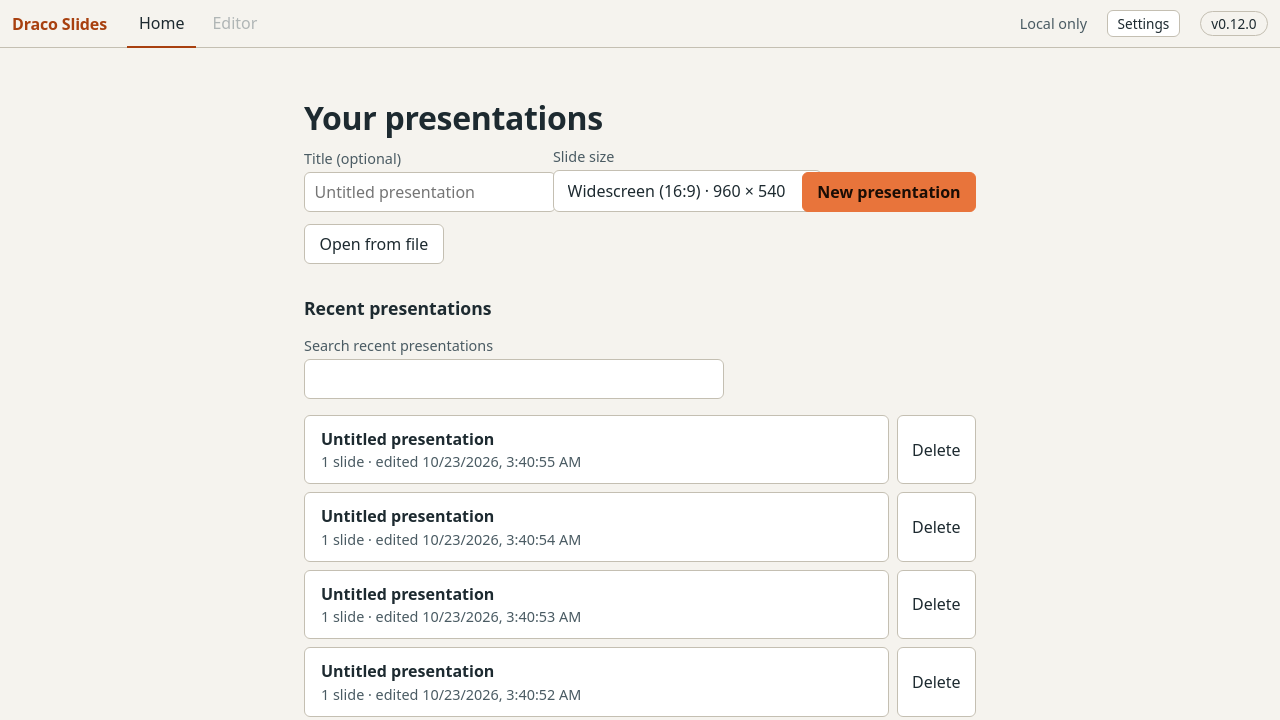
Test case: text boxes on the canvas › clicking empty canvas or pressing Escape clears the selection
Click the button "New presentation": (889, 192) [802,172,976,212]
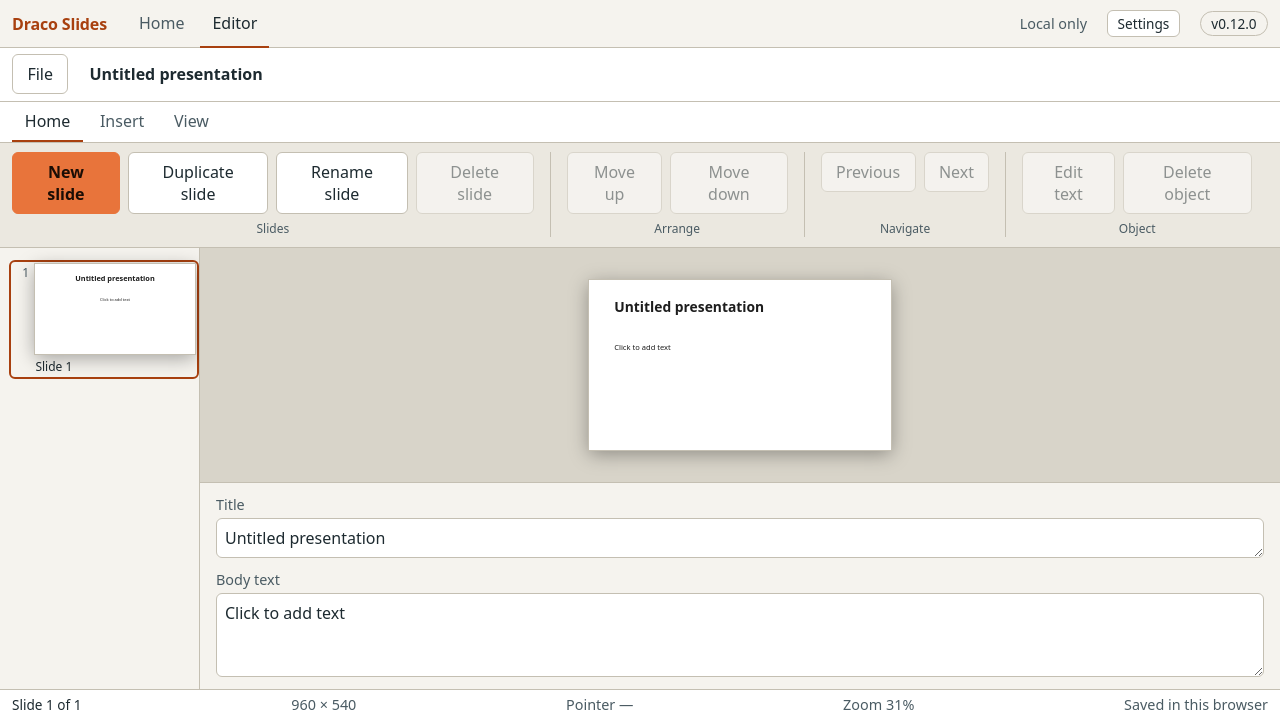
Click the tab "Insert": (122, 122) [87,102,157,142]
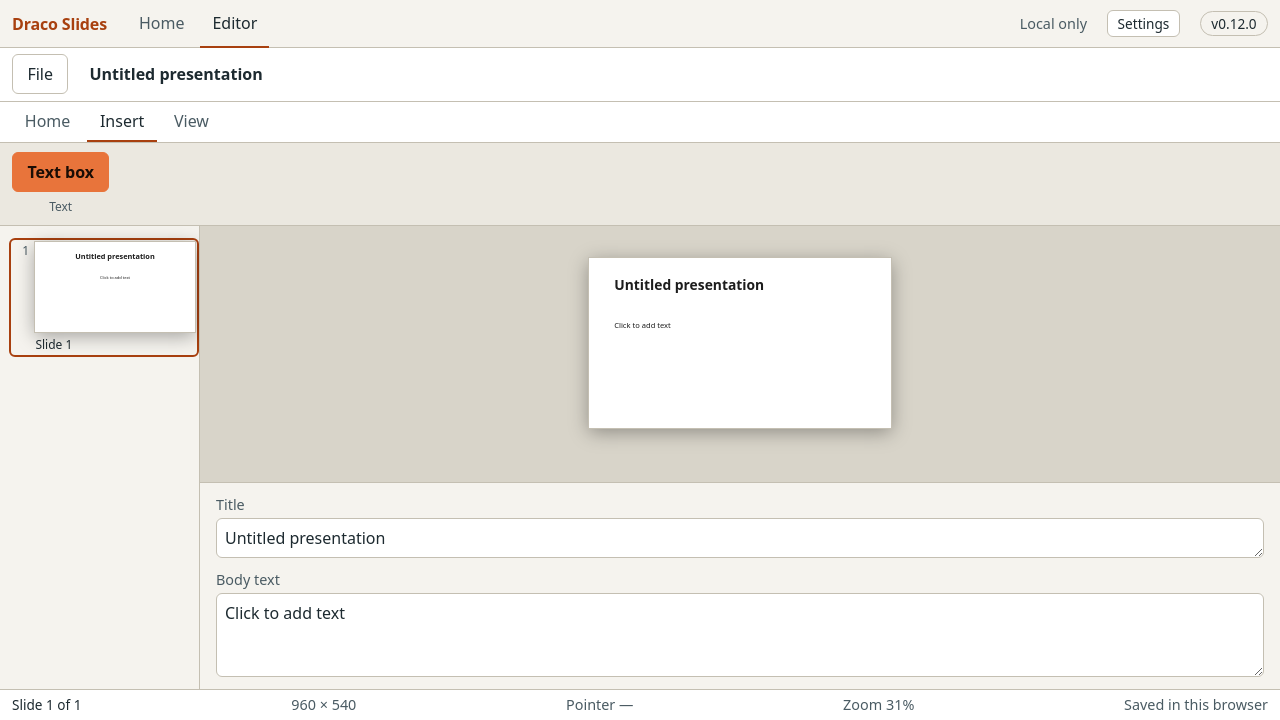
Click the button "Text box": (61, 172) [12,152,109,192]
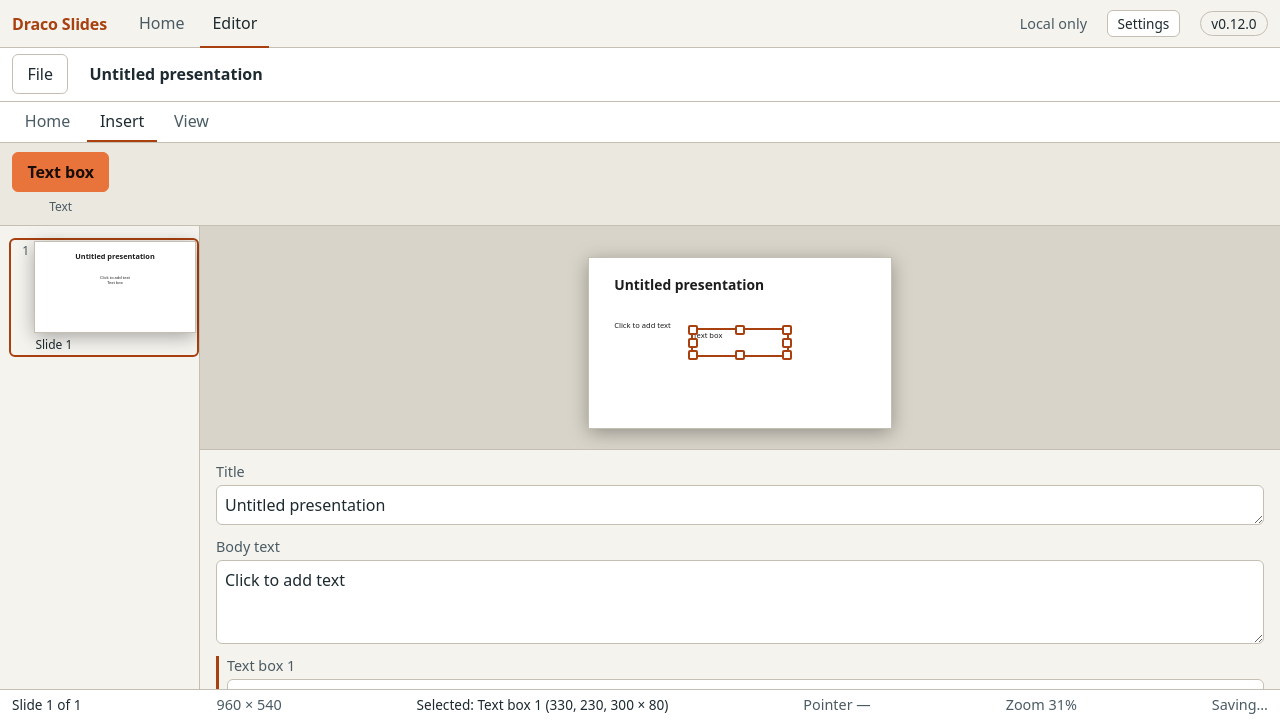
Press the mouse on the element named "Slide canvas": (740, 337) [200,226,1279,449]
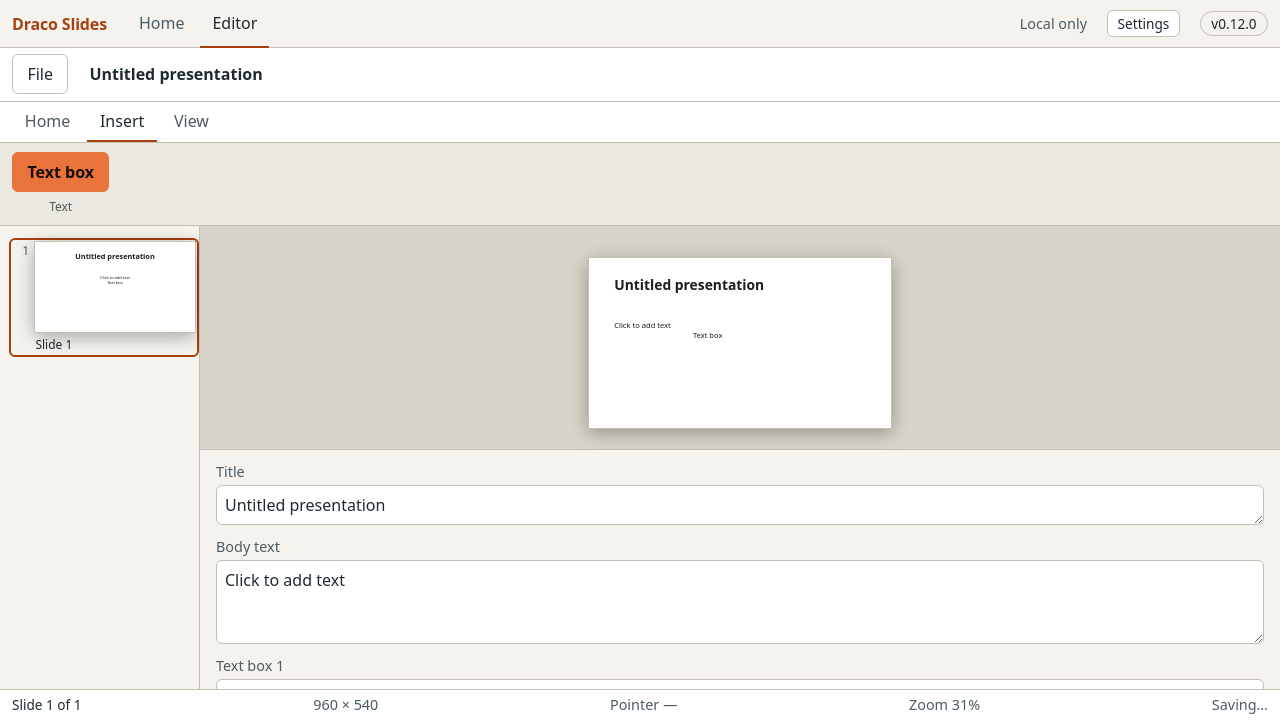
Expected: the text "Selected: " is gone
Press the mouse on the button named "Text box 1": (740, 343) [693,330,787,355]
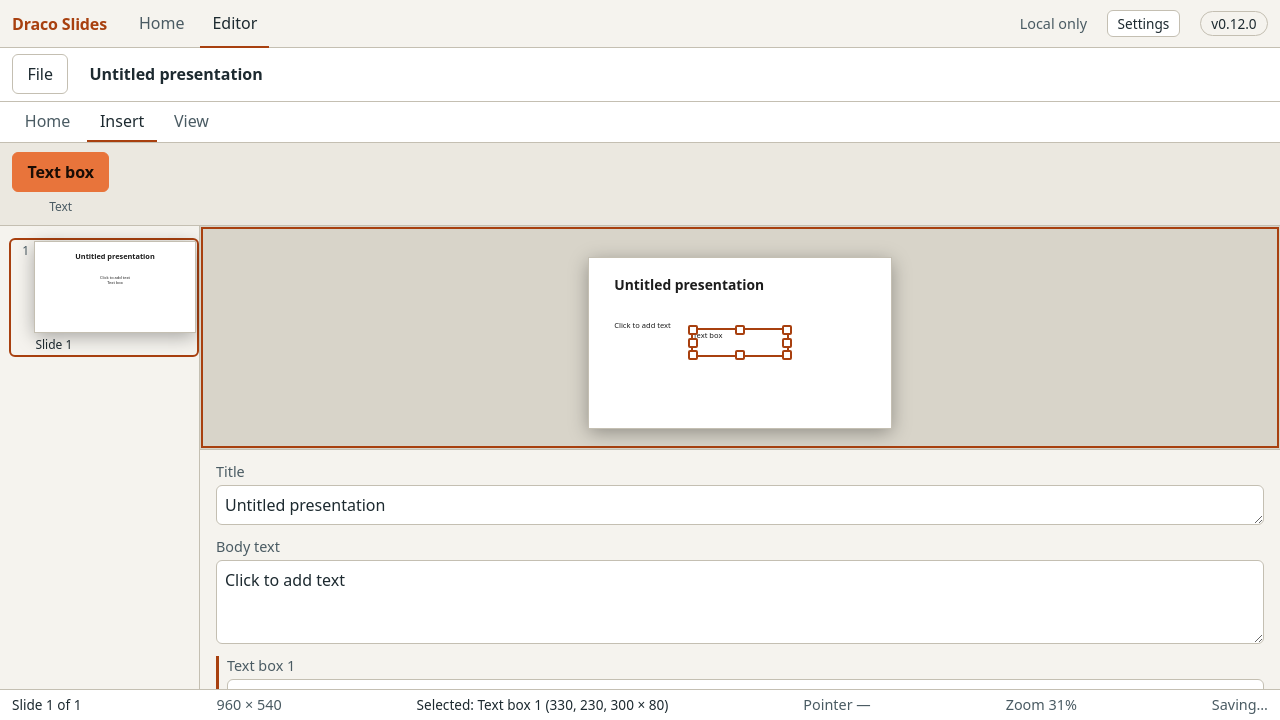
Press Escape in the element named "Slide canvas", box [200,226,1279,449]
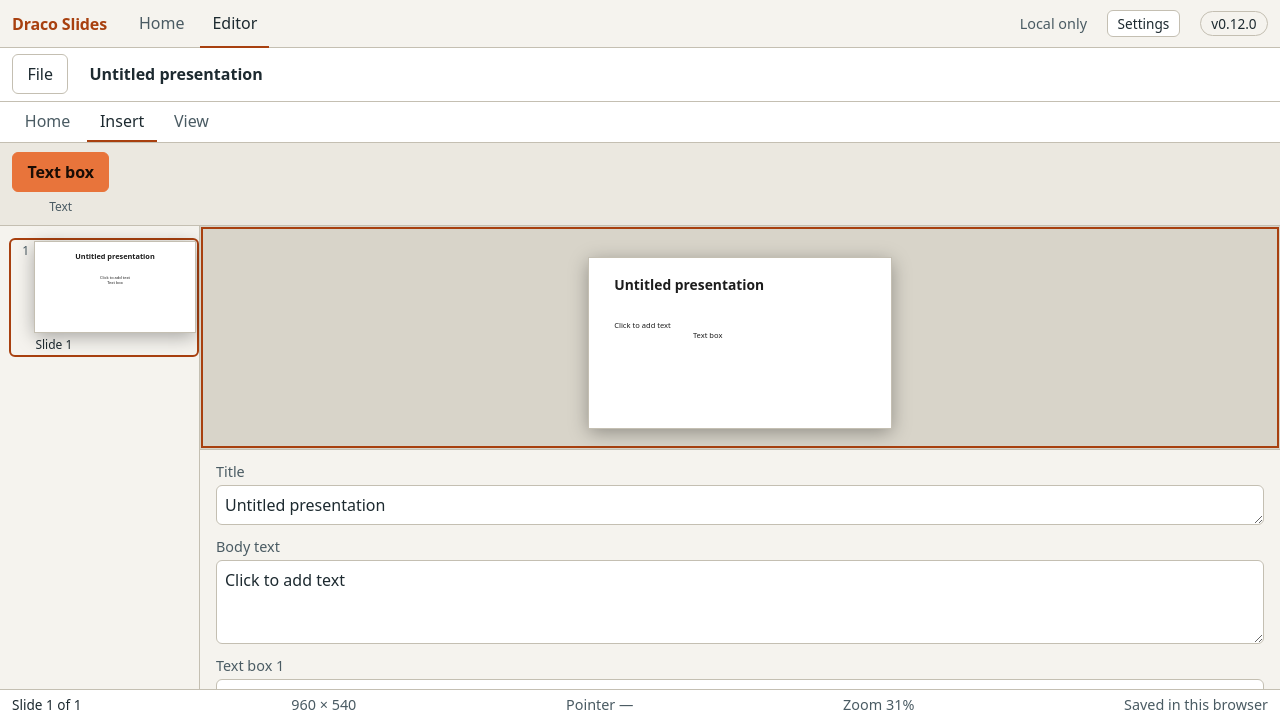
Expected: the text "Selected: " is gone
